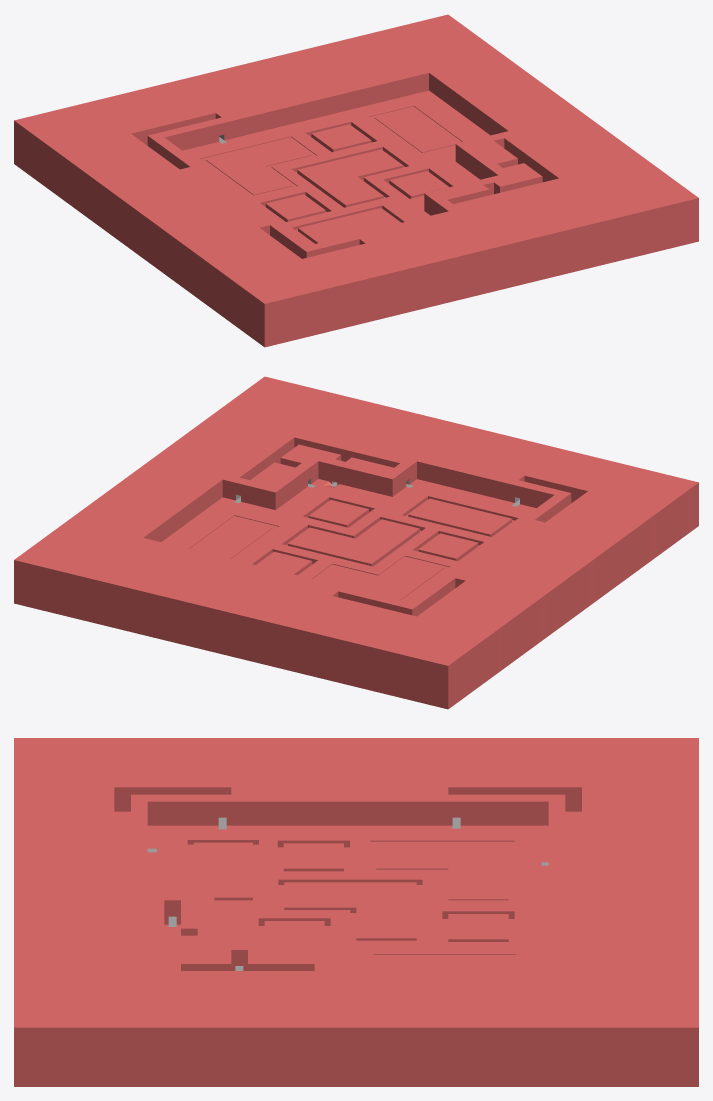
Rendered from Level_001 (1).fbx.
3 views of the same model, one above another, from view 1: azimuth 30°, elevation 25°; view 2: azimuth 150°, elevation 25°; view 3: azimuth 270°, elevation 25° (orthographic). The views are drawn at different scales.
Parts seen in each view (by area): view 1: pCube124; view 2: pCube124; view 3: pCube124.
Boxes of the visible parts, left/top/right/bottom form: pCube124: left=14, top=14, right=698, bottom=347; pCube124: left=14, top=376, right=698, bottom=709; pCube124: left=14, top=738, right=698, bottom=1086.
Bounding box in the file's own units: 55.52 × 8.03 × 55.52.
